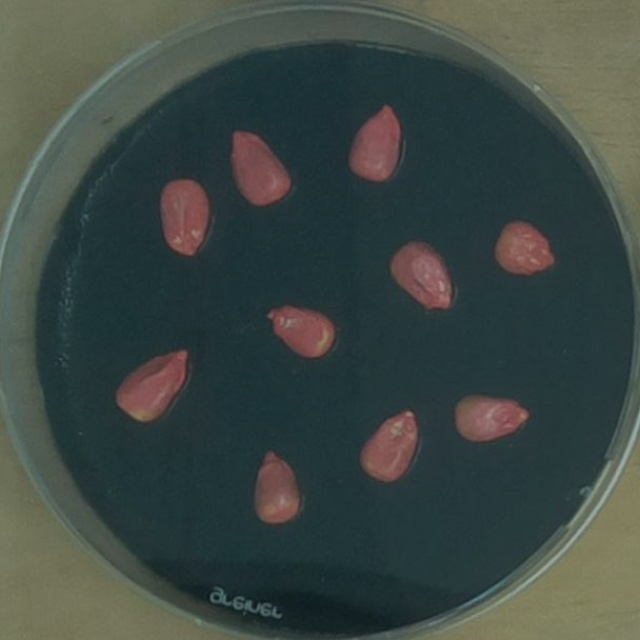Zea mays: (106, 340, 198, 428), (222, 122, 299, 214), (338, 92, 409, 188), (383, 232, 462, 318), (350, 401, 423, 489), (151, 168, 217, 265), (258, 295, 342, 365), (244, 441, 308, 532), (445, 386, 536, 448), (487, 209, 563, 281)
